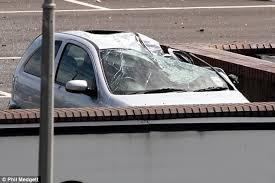Front-Windscreen-Damage: (84, 50, 245, 101)
roof-dent: (58, 24, 159, 58)
